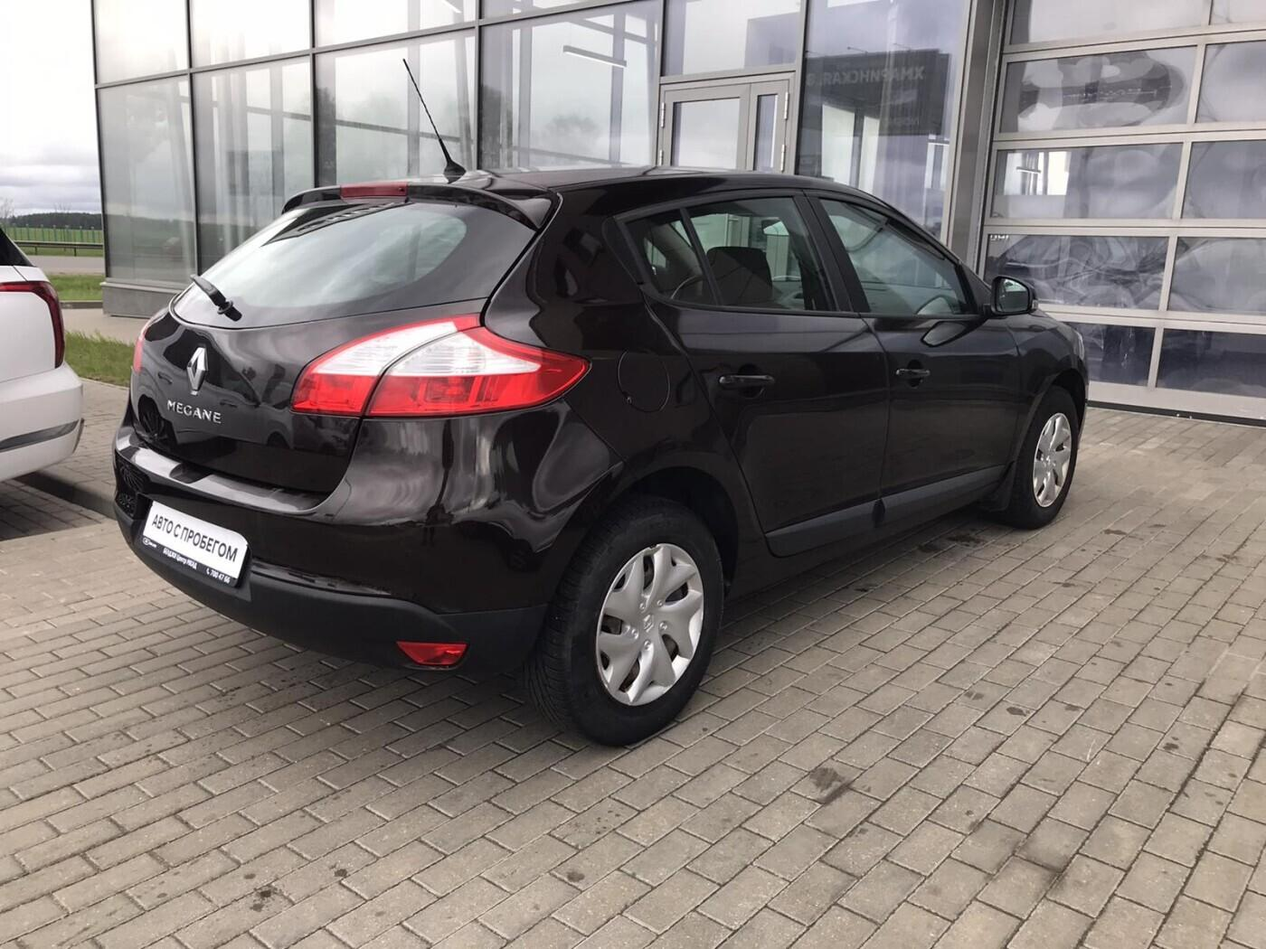Megane_2012-2014: (112, 150, 1095, 740)
